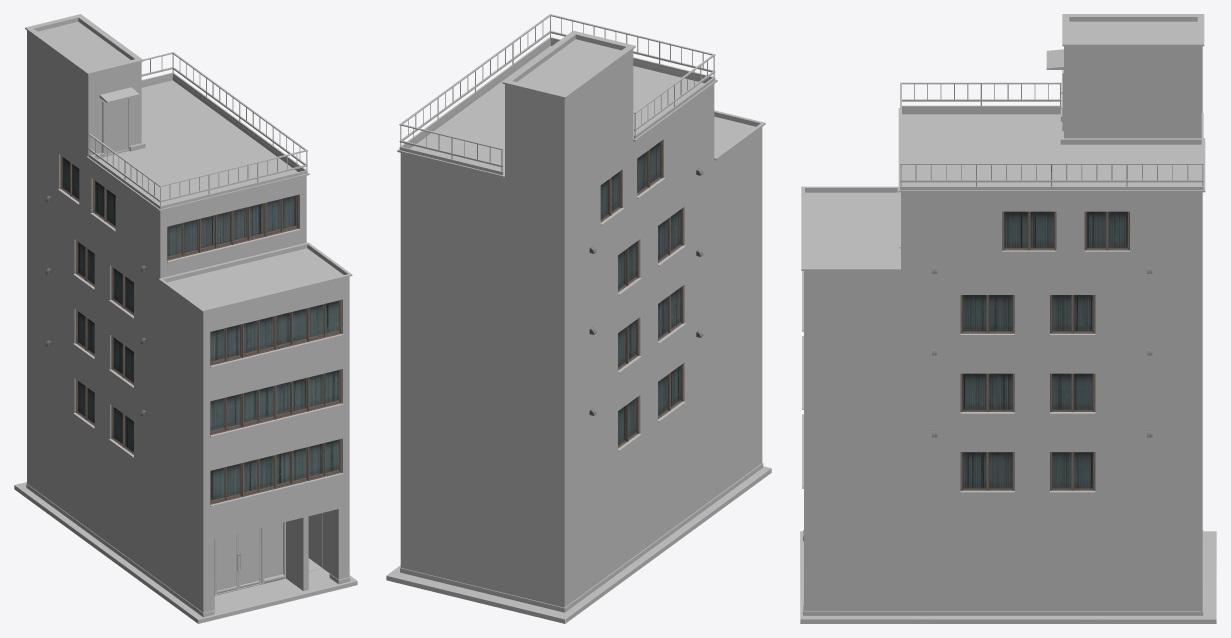
The model's file is BldC.fbx.
3 views of the same model, side by side, from view 1: azimuth 30°, elevation 25°; view 2: azimuth 150°, elevation 25°; view 3: azimuth 270°, elevation 25° (orthographic). The views are drawn at different scales.
Visible parts, largest first — view 1: BldC_LOD0; view 2: BldC_LOD0; view 3: BldC_LOD0.
Boxes of the visible parts, box(x1,y1,x2,y2) form: BldC_LOD0: box(14, 14, 357, 623); BldC_LOD0: box(386, 14, 771, 623); BldC_LOD0: box(800, 14, 1216, 623).
Bounding box in the file's own units: 600 × 1670 × 1200.
